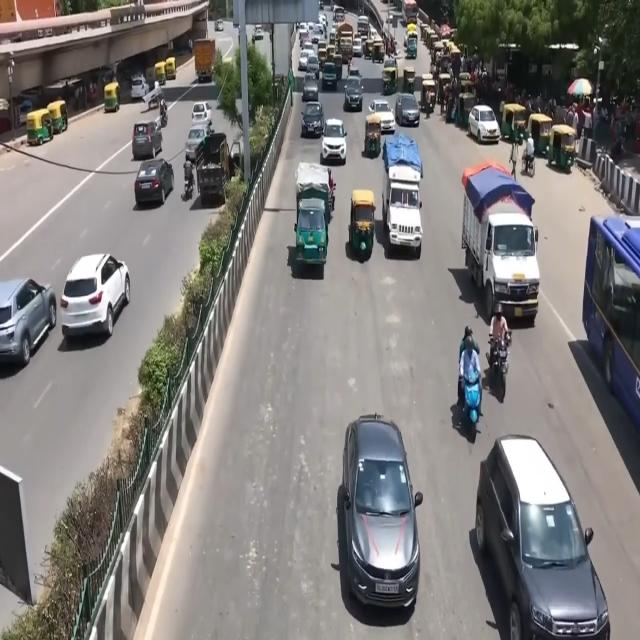auto: (293, 196, 328, 272), (351, 188, 379, 263), (548, 123, 577, 172), (528, 112, 553, 158), (501, 102, 527, 144), (26, 108, 54, 146), (364, 113, 383, 157), (47, 100, 68, 134), (437, 71, 453, 111), (382, 57, 398, 94), (421, 76, 437, 112), (104, 81, 120, 112), (432, 39, 447, 67), (371, 36, 385, 63), (329, 54, 343, 81), (437, 53, 452, 77), (154, 61, 168, 85), (426, 26, 438, 52), (403, 65, 415, 91), (357, 14, 369, 38), (165, 56, 176, 80), (418, 19, 428, 42), (363, 37, 373, 59), (326, 43, 336, 63), (352, 36, 362, 56), (320, 49, 328, 69), (329, 30, 336, 46)
bike-auto: (459, 336, 483, 417), (489, 308, 510, 365), (183, 160, 194, 197), (159, 98, 167, 124)
